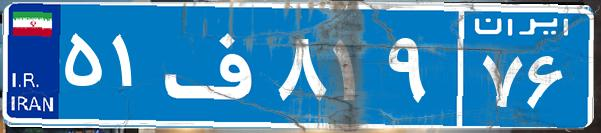1: (330, 28, 385, 110), (110, 28, 158, 105)
5: (57, 26, 110, 107)
6: (525, 38, 570, 115)
7: (475, 38, 525, 113)
8: (273, 28, 330, 110)
9: (385, 28, 445, 110)
ف: (158, 15, 273, 115)
